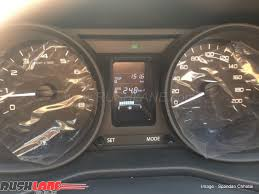Digital_Meter: (113, 73, 157, 129)
